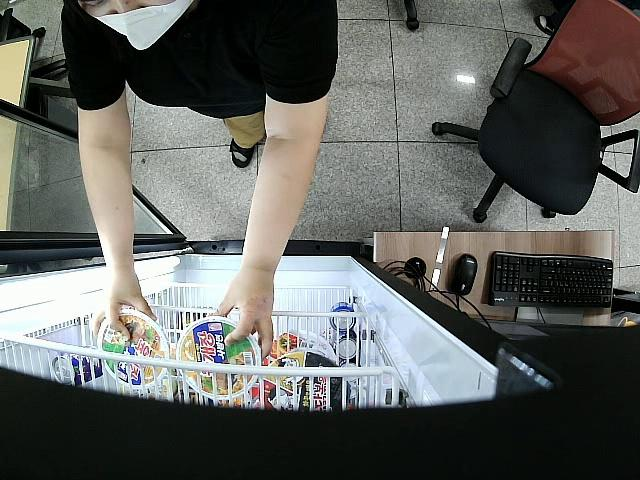00_hand: (207, 271, 275, 358), (92, 269, 160, 343)
09_yukGaeJang: (175, 316, 260, 397), (97, 310, 168, 390)
